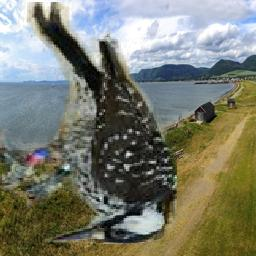Woodpecker: (1, 2, 178, 244)
